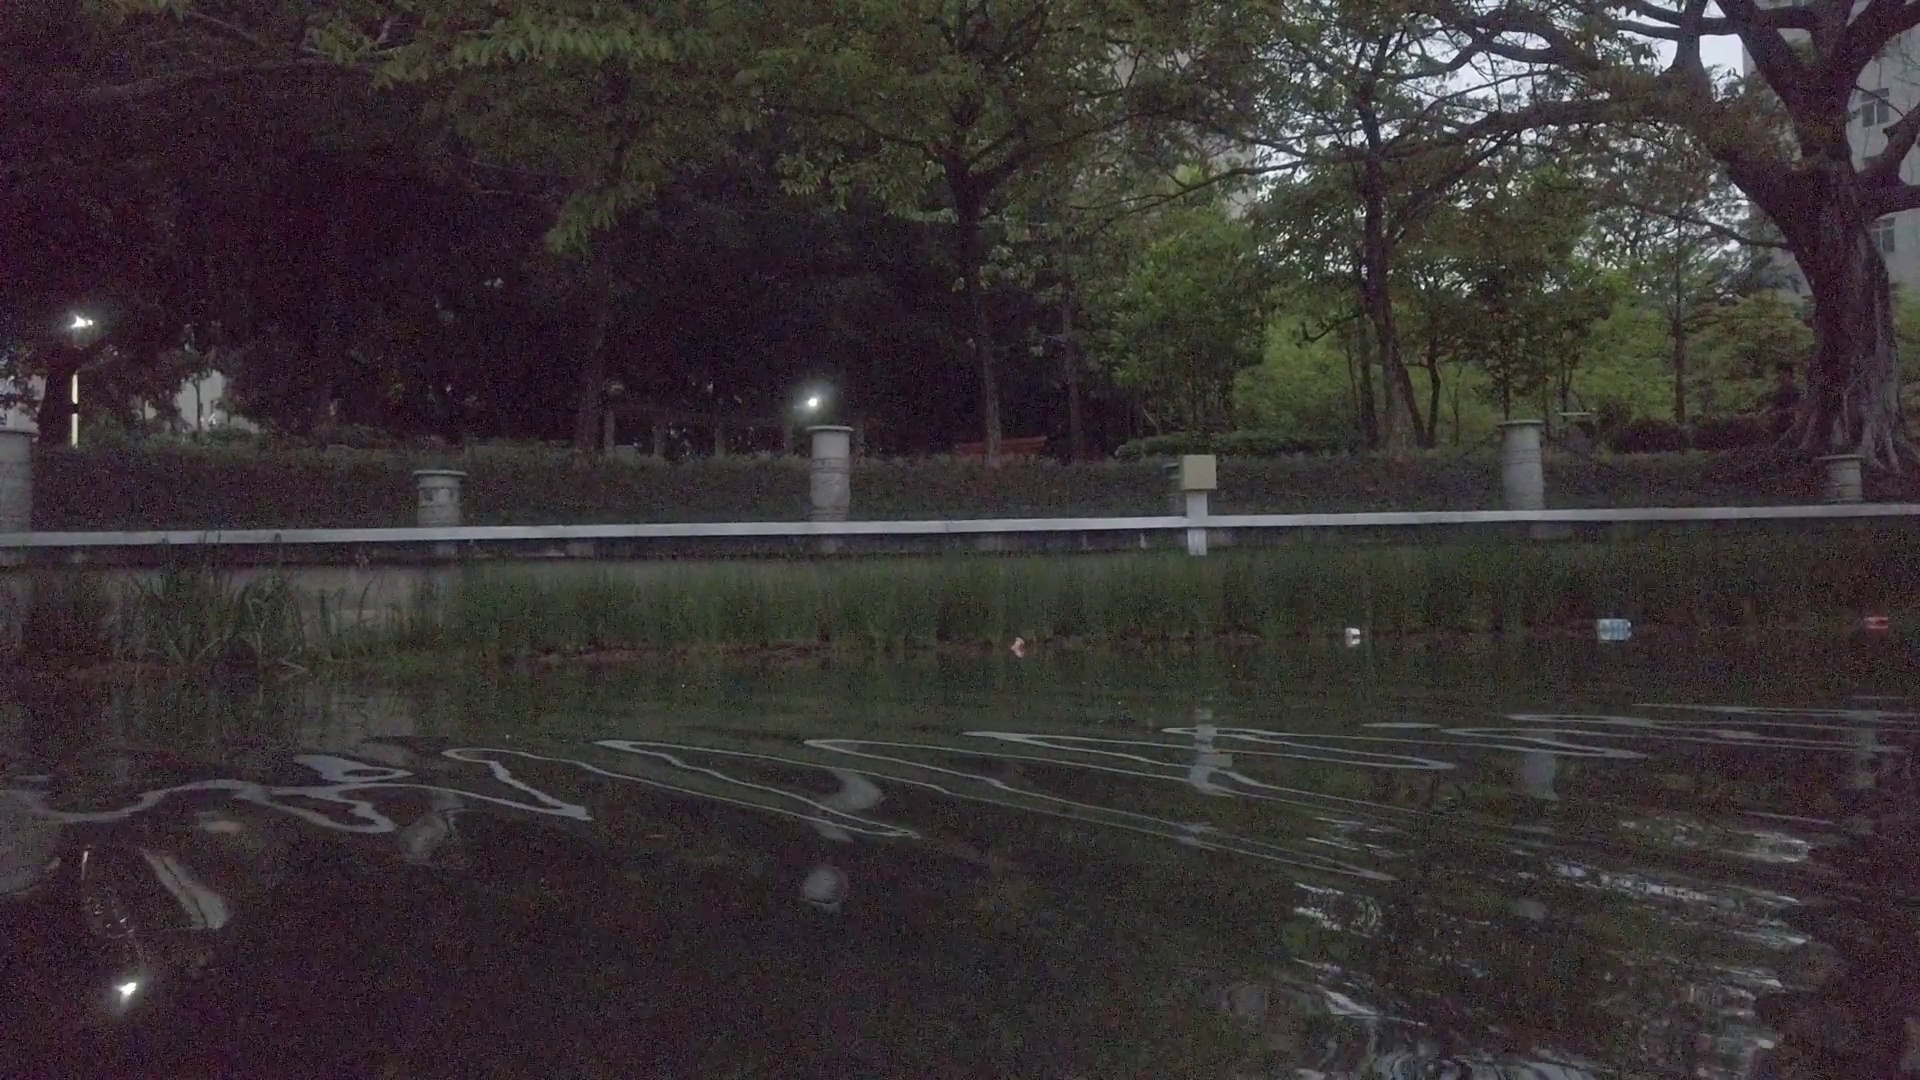bottle: (1596, 618, 1635, 632), (1009, 636, 1026, 654), (1863, 616, 1891, 626)
carton: (1345, 628, 1361, 640)
